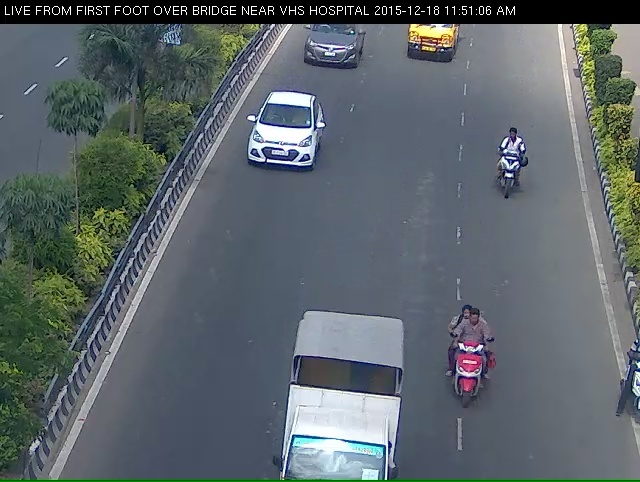Car: (282, 332, 400, 479), (250, 100, 320, 180), (302, 25, 358, 78), (405, 24, 459, 65)
Person: (448, 332, 496, 432), (497, 132, 529, 215)
